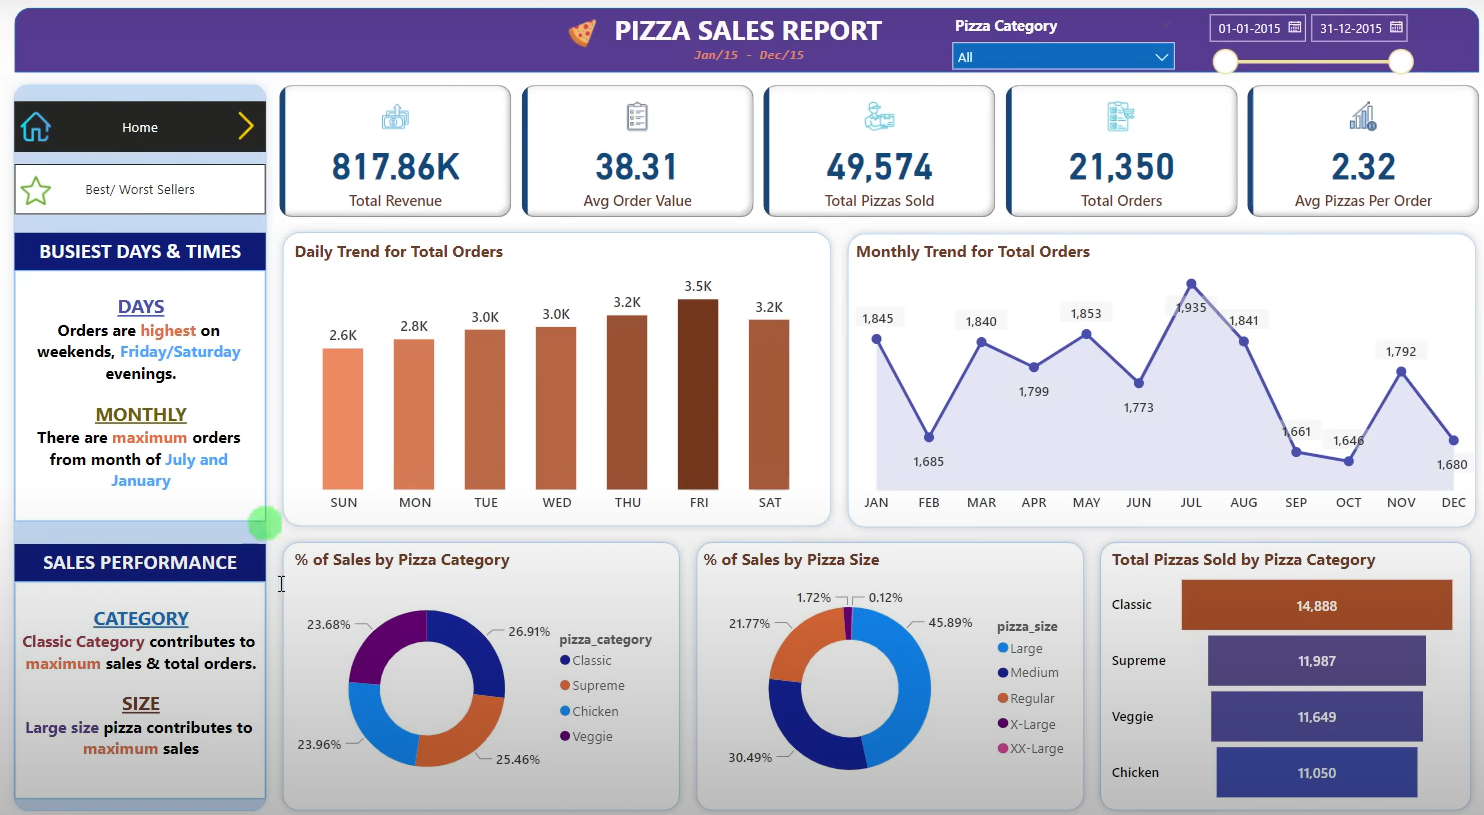

This screenshot's page, from the dashboard's own definition file:
{"tool":"powerbi","page":{"name":"Home","canvas":[1500,820],"ordinal":0},"visuals":[{"type":"cardVisual","fields":{"Data":["pizza_sales.Total Revenue","pizza_sales.Average Order Value","pizza_sales.Total Pizzas Sold","pizza_sales.Total Orders","pizza_sales.Avg Pizzas Per Order"]},"box":[231.5,87.5,1229.1,142.9],"z":0},{"type":"shape","box":[0,87.5,232.2,725.3],"z":1000},{"type":"textbox","box":[18.3,271.7,196.7,31.7],"z":2000},{"type":"shape","box":[0,14.3,1452.4,73.2],"z":3000},{"type":"textbox","box":[603.8,21.4,291.2,48.2],"z":4000},{"type":"textbox","box":[680.7,51.8,139.3,33.9],"z":5000},{"type":"image","box":[559.2,19.7,59,53.6],"z":6000},{"type":"shape","box":[231.5,230.5,564.5,309.1],"z":7000},{"type":"columnChart","title":"Daily Trend for Total Orders","fields":{"Category":["pizza_sales.Order Day"],"Y":["pizza_sales.Total Orders"]},"box":[244,246.5,532.4,278.7],"z":8000},{"type":"shape","box":[796.1,232.2,664.6,309.1],"z":9000},{"type":"areaChart","title":"Monthly Trend for Total Orders","fields":{"Y":["pizza_sales.Total Orders"],"Category":["pizza_sales.Order Month"]},"box":[821.1,246.5,614.6,287.6],"z":10000},{"type":"shape","box":[1060.5,539.5,400.2,280.5],"z":11000},{"type":"shape","box":[646,539.5,400.2,280.5],"z":12000},{"type":"shape","box":[231.5,539.5,400,280.5],"z":13000},{"type":"donutChart","title":"% of Sales by Pizza Category","fields":{"Category":["pizza_sales.pizza_category"],"Y":["pizza_sales.Total Revenue"]},"box":[244,555.6,375.2,250.1],"z":14000},{"type":"donutChart","title":"% of Sales by Pizza Size","fields":{"Y":["pizza_sales.Total Revenue"],"Category":["pizza_sales.pizza_size"]},"box":[658.5,555.6,375.2,250.1],"z":15000},{"type":"funnel","title":"Total Pizzas Sold by Pizza Category","fields":{"Category":["pizza_sales.pizza_category"],"Y":["pizza_sales.Total Pizzas Sold"]},"box":[1073,553.8,375.2,250.1],"z":16000},{"type":"textbox","box":[8.3,316.7,213.3,188.3],"z":17000},{"type":"textbox","box":[16.7,525,198.3,31.7],"z":18000},{"type":"textbox","box":[10,566.7,213.3,201.7],"z":19000},{"type":"slicer","fields":{"Values":["pizza_sales.pizza_category"]},"box":[948.6,19.7,169.7,59],"z":20000},{"type":"slicer","fields":{"Values":["pizza_sales.order_date"]},"box":[1140.7,14.3,223.3,80.4],"z":21000},{"type":"pageNavigator","box":[20,108.3,191.7,50],"z":22000},{"type":"pageNavigator","box":[18.3,180,191.7,50],"z":23000},{"type":"image","box":[173.3,188.3,41.7,33.3],"z":24000},{"type":"image","box":[20,103.3,73.3,58.3],"z":24001}]}

Visuals, with their boxes in screenshot pixels (x1, y1, x2, y2), scaled from the page's 1500x820 canvas onto the 1484x815 screenshot:
cardVisual - pizza_sales.Total Revenue x pizza_sales.Average Order Value: (229, 87, 1445, 229)
shape: (0, 87, 230, 808)
textbox: (18, 270, 213, 302)
shape: (0, 14, 1437, 87)
textbox: (597, 21, 885, 69)
textbox: (673, 51, 811, 85)
image: (553, 20, 612, 73)
shape: (229, 229, 788, 536)
"Daily Trend for Total Orders" columnChart: (241, 245, 768, 522)
shape: (788, 231, 1445, 538)
"Monthly Trend for Total Orders" areaChart: (812, 245, 1420, 531)
shape: (1049, 536, 1445, 814)
shape: (639, 536, 1035, 814)
shape: (229, 536, 625, 814)
"% of Sales by Pizza Category" donutChart: (241, 552, 613, 801)
"% of Sales by Pizza Size" donutChart: (651, 552, 1023, 801)
"Total Pizzas Sold by Pizza Category" funnel: (1062, 550, 1433, 799)
textbox: (8, 315, 219, 502)
textbox: (17, 522, 213, 553)
textbox: (10, 563, 221, 764)
slicer - pizza_sales.pizza_category: (938, 20, 1106, 78)
slicer - pizza_sales.order_date: (1129, 14, 1349, 94)
pageNavigator: (20, 108, 209, 157)
pageNavigator: (18, 179, 208, 229)
image: (171, 187, 213, 220)
image: (20, 103, 92, 161)
